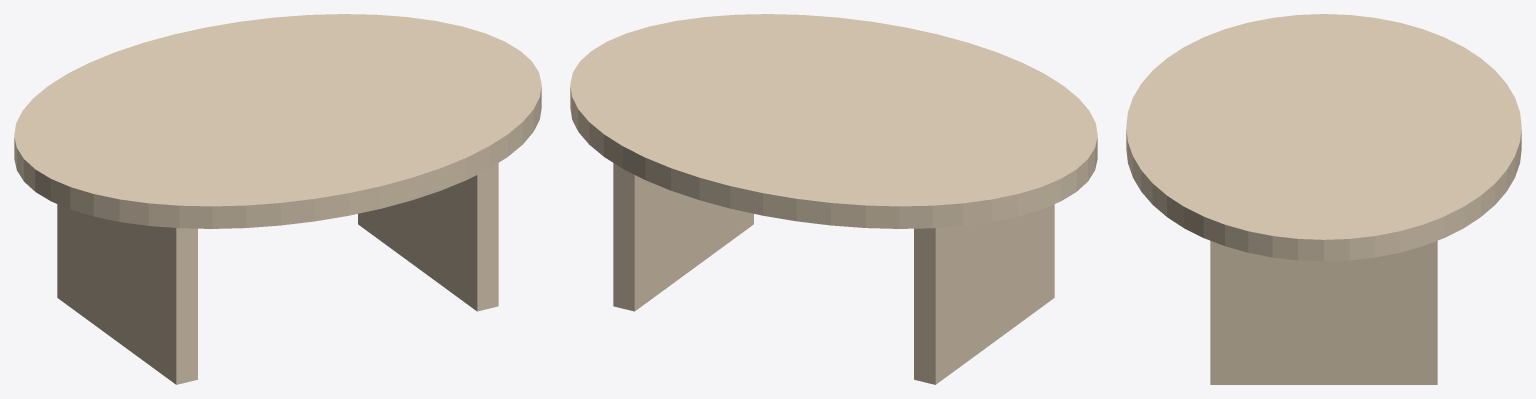
The model's file is bower-coffee-table-oak.glb.
The picture shows the model from 3 angles, left to right: view 1: azimuth 30°, elevation 25°; view 2: azimuth 150°, elevation 25°; view 3: azimuth 270°, elevation 25°; orthographic projection. The views are drawn at different scales.
Visible parts, largest first — view 1: geometry_0; view 2: geometry_0; view 3: geometry_0.
Boxes of the visible parts, left/top/right/bottom form: geometry_0: left=14, top=14, right=541, bottom=384; geometry_0: left=570, top=14, right=1097, bottom=384; geometry_0: left=1126, top=14, right=1521, bottom=384.
Bounding box in the file's own units: 0.9 × 0.34 × 0.666.
